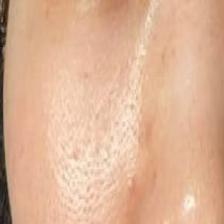Oily: (14, 0, 223, 223)
